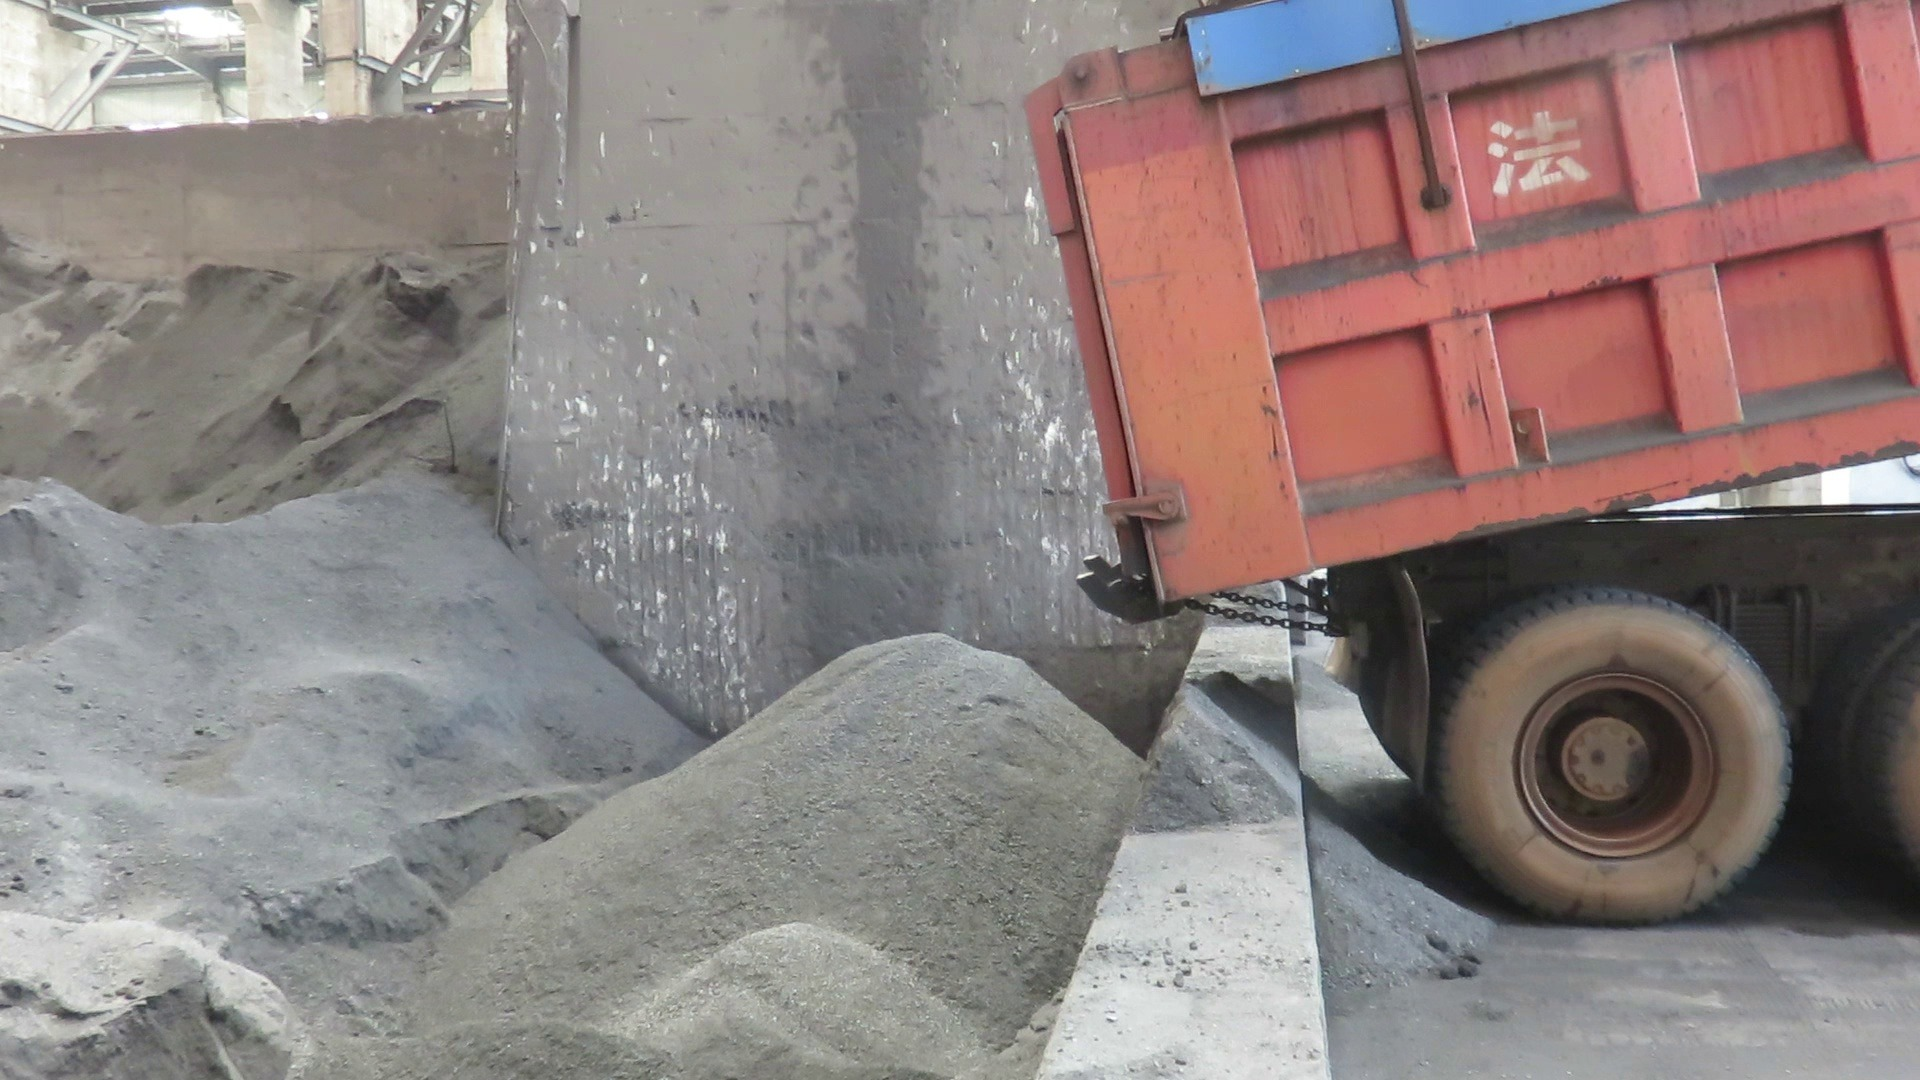truck: (1004, 0, 1920, 948)
